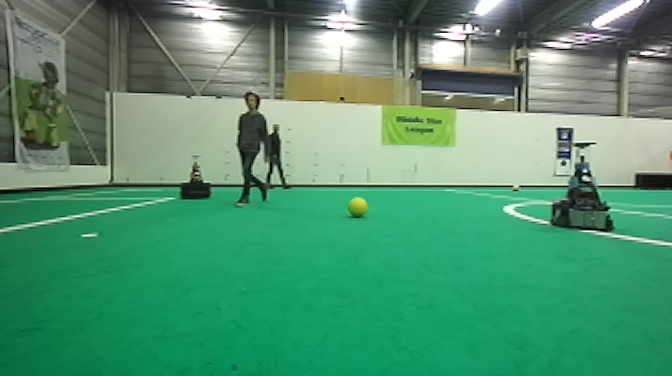ball: (345, 195, 368, 219), (510, 182, 522, 194)
human: (232, 92, 270, 207), (264, 123, 290, 193)
robot: (549, 139, 616, 232), (177, 153, 215, 201)
